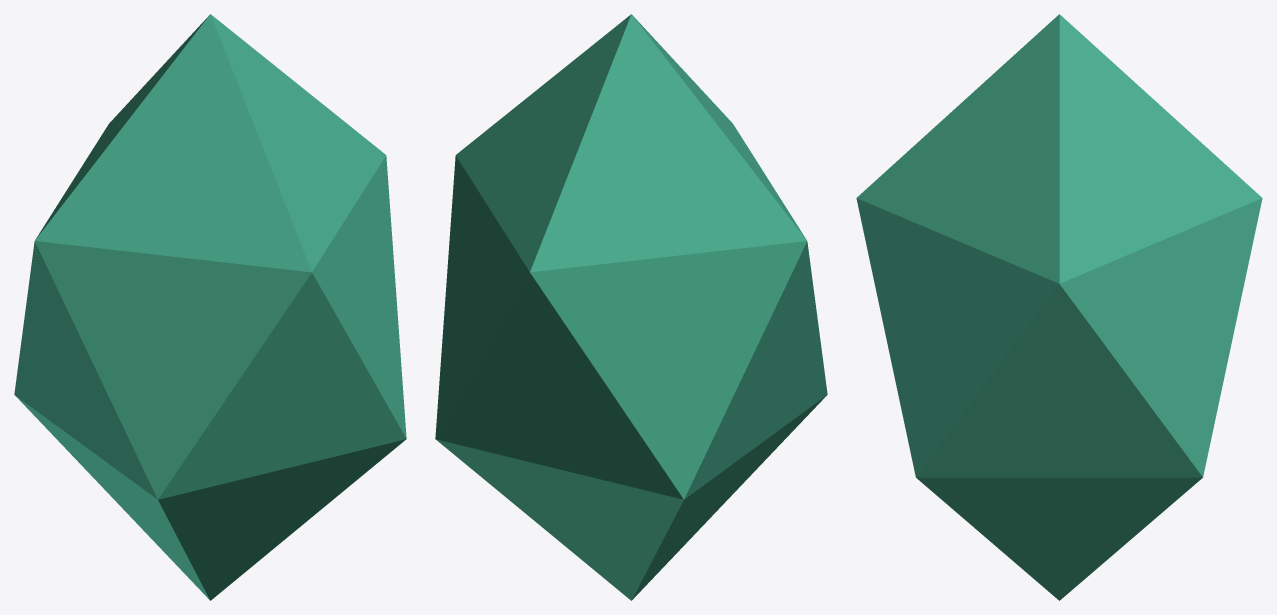
Rendered from J17.BipiramideCuadradaGiroelongada.gltf.
3 views of the same model, side by side, from view 1: azimuth 30°, elevation 25°; view 2: azimuth 150°, elevation 25°; view 3: azimuth 270°, elevation 25° (orthographic).
Parts seen in each view (by area): view 1: J17.BipiramideCuadradaGiroelongada; view 2: J17.BipiramideCuadradaGiroelongada; view 3: J17.BipiramideCuadradaGiroelongada.
Boxes of the visible parts, box(x1,y1,x2,y2) form: J17.BipiramideCuadradaGiroelongada: box(14, 14, 406, 600); J17.BipiramideCuadradaGiroelongada: box(435, 14, 827, 600); J17.BipiramideCuadradaGiroelongada: box(856, 14, 1262, 600).
Bounding box in the file's own units: 12.54 × 20 × 12.54.
